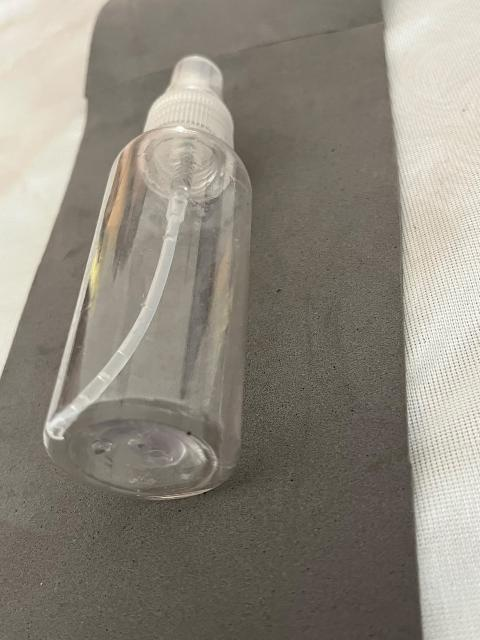PET: (7, 11, 297, 539)
